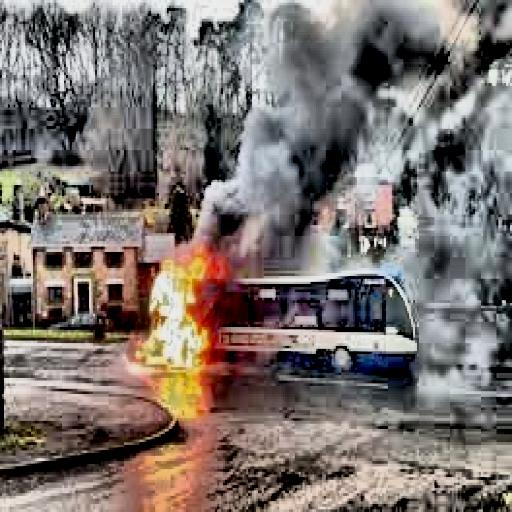fire: (122, 244, 233, 378)
